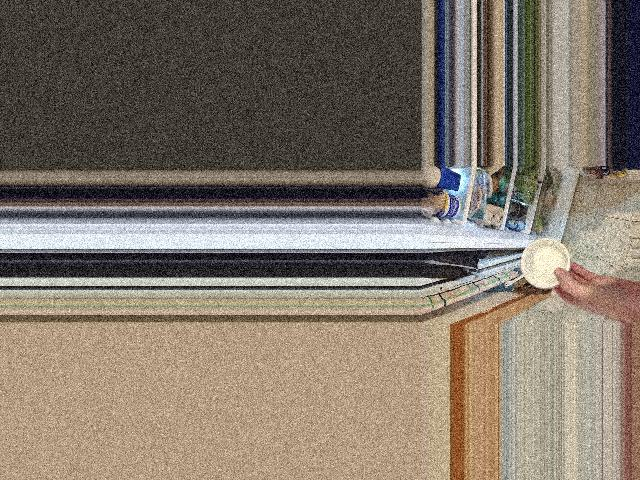cotage: (517, 237, 568, 290)
